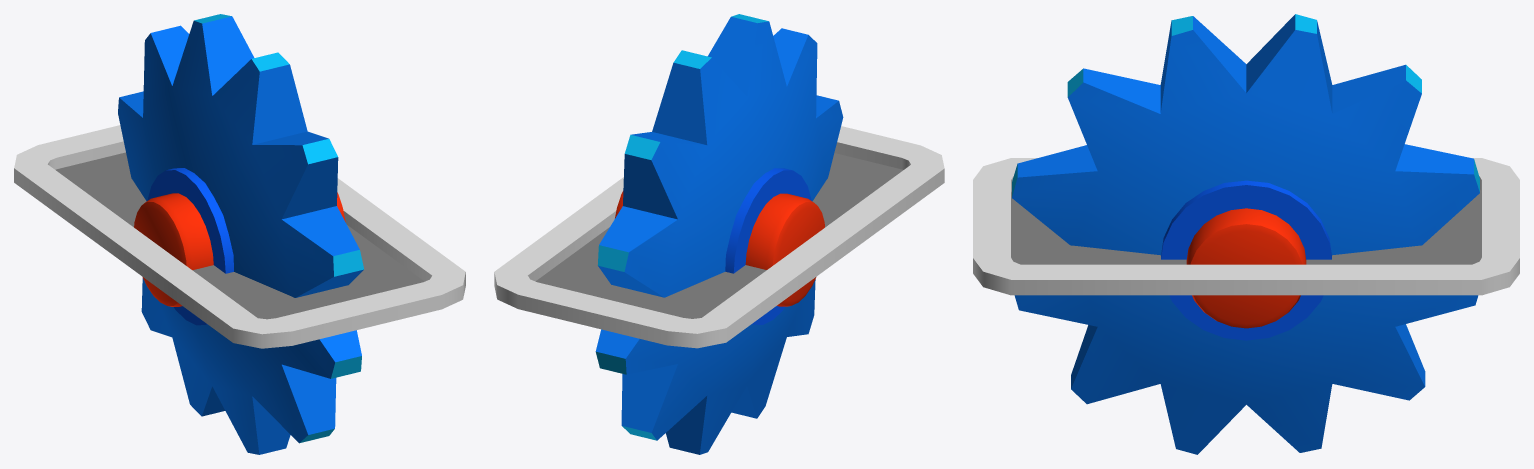
Rendered from Obstacle-4.fbx.
The picture shows the model from 3 angles, left to right: view 1: azimuth 30°, elevation 25°; view 2: azimuth 150°, elevation 25°; view 3: azimuth 270°, elevation 25°; orthographic projection. The views are drawn at different scales.
Visible parts, largest first — view 1: small grinder, small grinder ground; view 2: small grinder, small grinder ground; view 3: small grinder, small grinder ground.
Part boxes in pixels (x1=…): small grinder: x1=118, y1=14, x2=364, y2=454; small grinder ground: x1=14, y1=125, x2=465, y2=348; small grinder: x1=595, y1=14, x2=843, y2=454; small grinder ground: x1=494, y1=126, x2=944, y2=348; small grinder: x1=1012, y1=14, x2=1479, y2=454; small grinder ground: x1=973, y1=158, x2=1519, y2=295.
Size of the model in its own units: 84 by 137 by 159.
